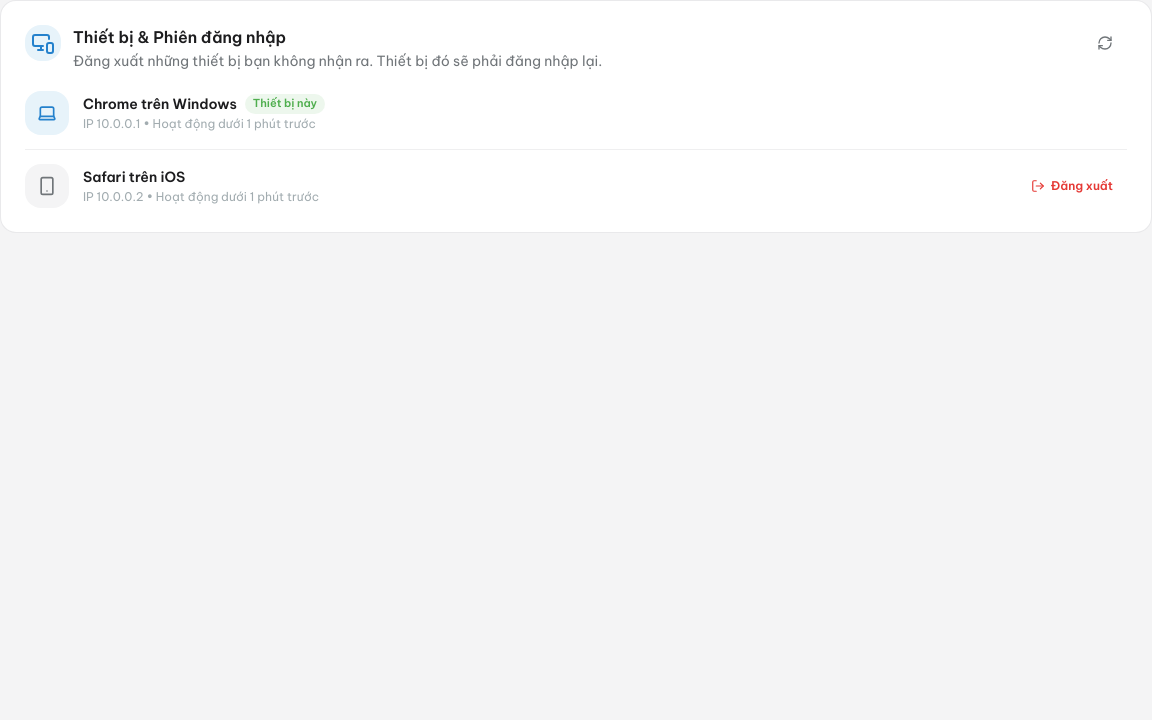
Test case: SessionsTab › revokes another device after confirmation and removes it from the list
What coordinates should you click on to do the following:
click the button with test id "revoke-session-phone-1"
I would click on:
 (1072, 186)
Its box is [1017, 168, 1127, 204].
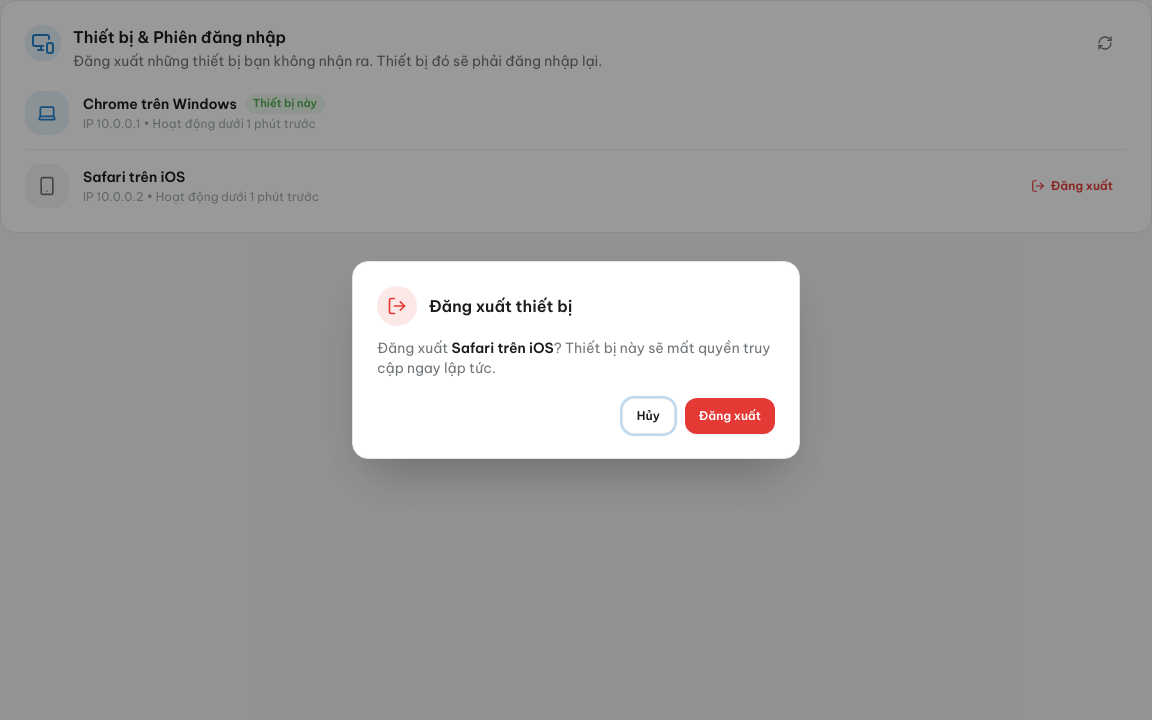
Now the dialog with test id "revoke-session-dialog" shows "Safari trên iOS", box [452, 339, 554, 357]
What coordinates should you click on to do the following:
click the button with test id "confirm-revoke-session"
I would click on:
 (730, 416)
Its box is [685, 398, 775, 434].
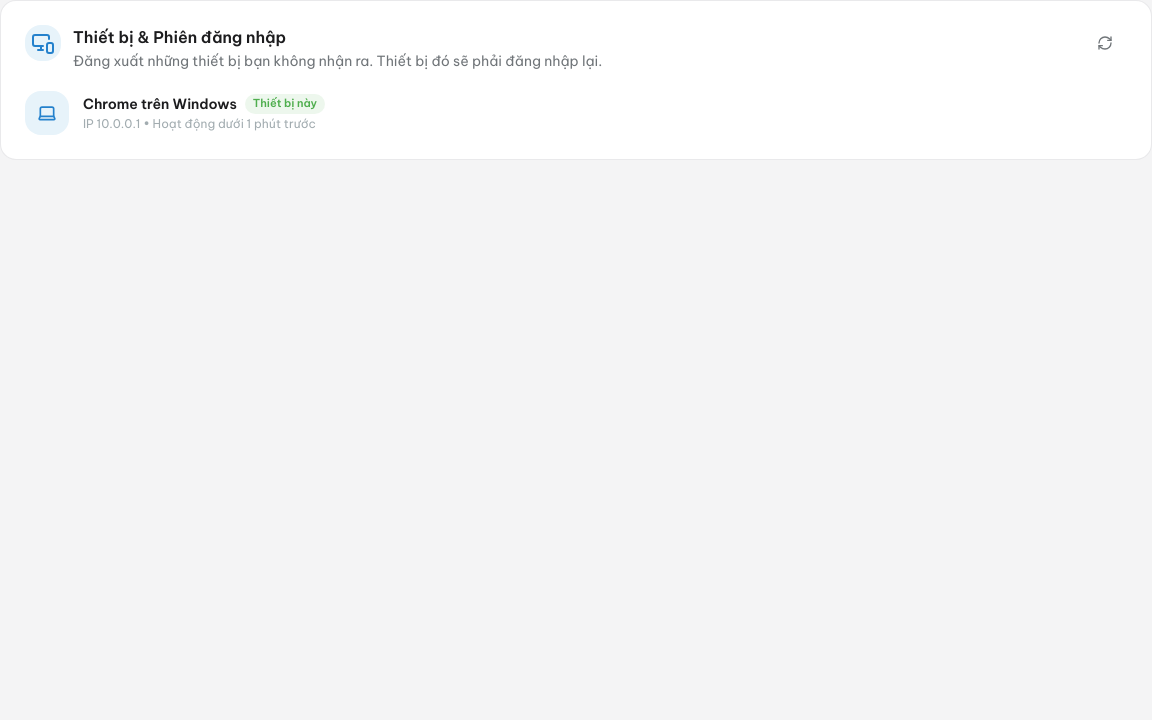
Now the list item with test id "session-item-phone-1" is gone
